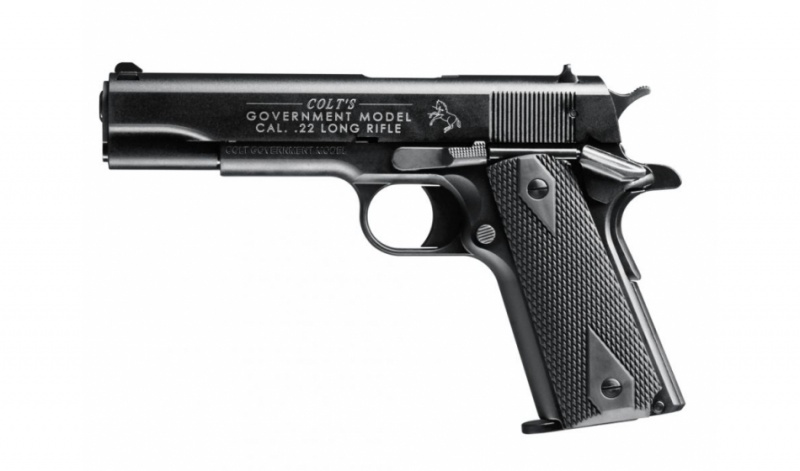Arma Real: (99, 56, 699, 435)
